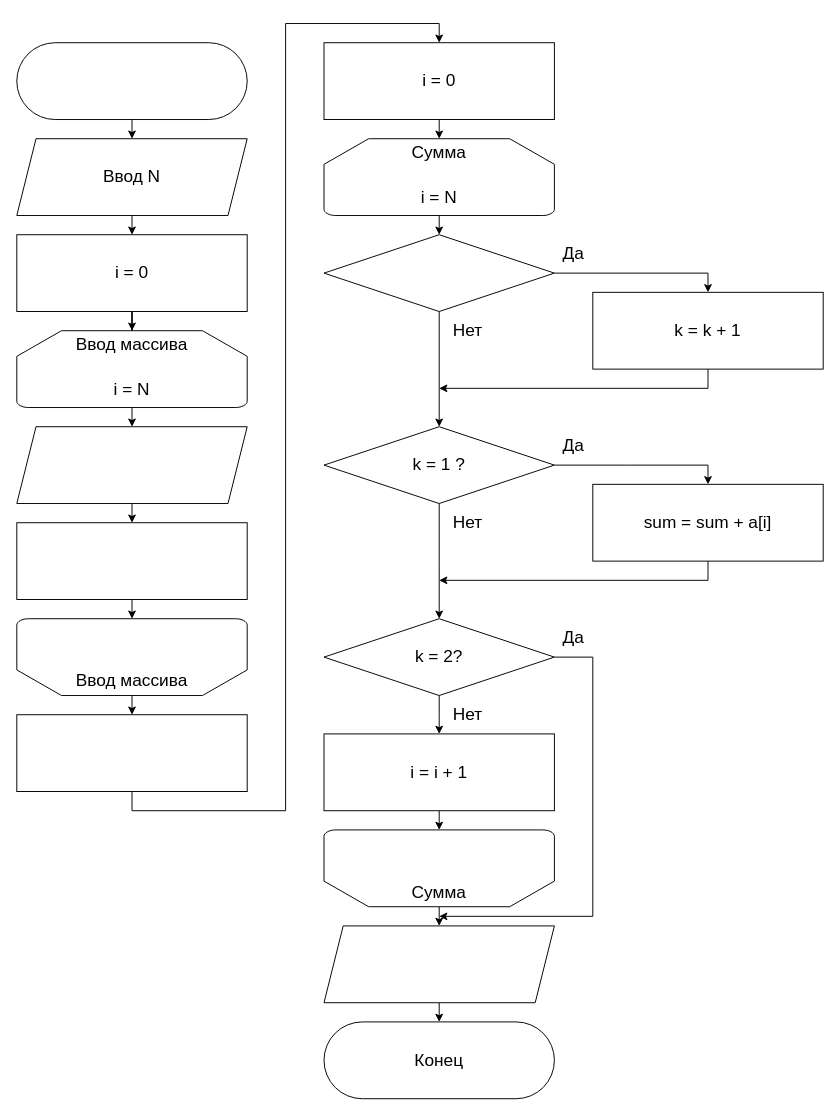
This 840x1116 diagram has some shape labels left out. The shapes that lost their labels are listed below. From the top down, each one's box as (x1, y1, x2, y2) in pixels, then its label:
(16, 42, 247, 120): Начало
(323, 234, 554, 312): a[i] = 0 ?
(16, 426, 247, 504): Ввод a[N-i]
(16, 522, 247, 600): i = i +1
(16, 714, 247, 792): sum = 0 k = 0
(323, 925, 554, 1003): Вывод sum
